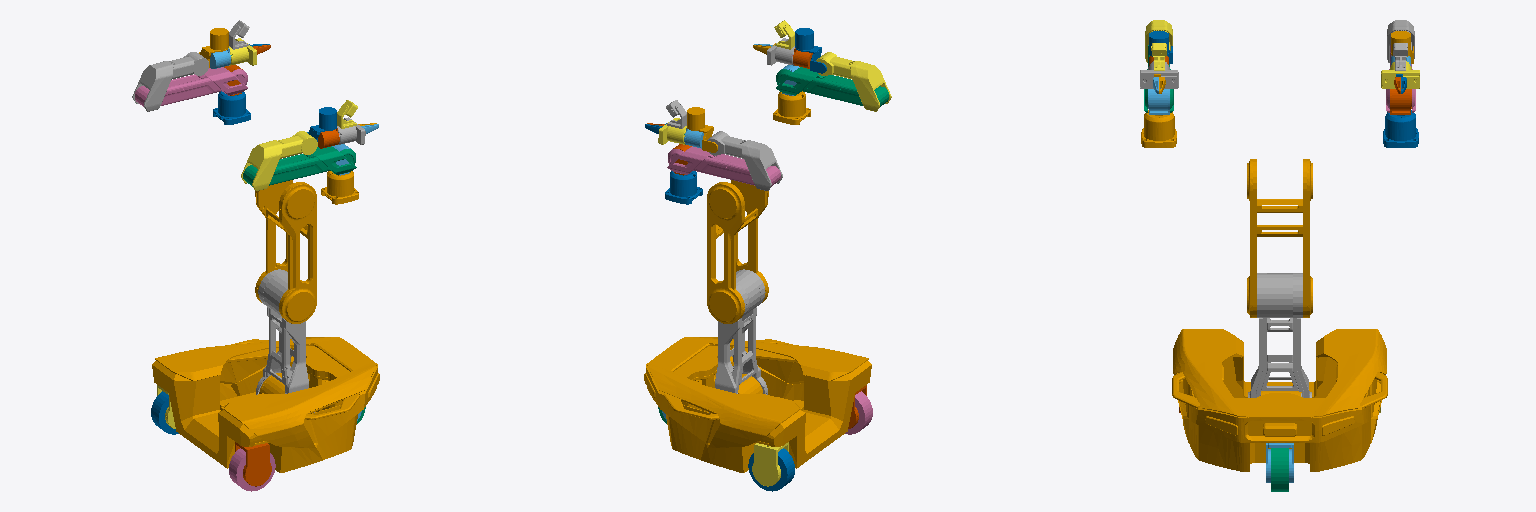
--- Facts derived from the render (not from the file) ---
The picture shows the robot from 3 angles, left to right: view 1: azimuth 30°, elevation 25°; view 2: azimuth 150°, elevation 25°; view 3: azimuth 270°, elevation 25°; orthographic projection.
Model A1Lite with 36 links and 35 joints (15 revolute, 4 prismatic, 16 fixed), rooted at base_link, posed all joints at 0.
Links seen in each view (by area): view 1: base_link, torso_link2, torso_link1, left_link2, right_link2, right_link3, left_link3, steer_motor_link3, left_base_link, right_base_link, wheel_motor_link3, wheel_motor_link2 (+2 smaller); view 2: base_link, torso_link2, torso_link1, right_link2, left_link2, left_link3, right_link3, steer_motor_link2, right_base_link, left_base_link, right_link4, wheel_motor_link2 (+2 smaller); view 3: base_link, torso_link1, torso_link2, left_base_link, right_base_link, wheel_motor_link1, left_gripper_base, right_gripper_base, left_link1, right_link1.
Link boxes in pixels (box(x1,y1,x2,y2)): base_link: box(152, 337, 379, 472); torso_link2: box(255, 180, 316, 323); torso_link1: box(256, 269, 314, 412); left_link2: box(135, 67, 247, 106); right_link2: box(243, 146, 356, 186); right_link3: box(241, 131, 317, 190); left_link3: box(132, 52, 208, 111); steer_motor_link3: box(235, 442, 271, 486); left_base_link: box(213, 91, 250, 124); right_base_link: box(321, 171, 358, 204); wheel_motor_link3: box(229, 448, 275, 491); wheel_motor_link2: box(151, 391, 178, 434); base_link: box(644, 337, 871, 472); torso_link2: box(707, 180, 768, 323); torso_link1: box(709, 269, 767, 412); right_link2: box(776, 67, 888, 106); left_link2: box(667, 146, 780, 186); left_link3: box(707, 131, 782, 190); right_link3: box(816, 52, 891, 111); steer_motor_link2: box(752, 442, 788, 486); right_base_link: box(773, 91, 810, 124); left_base_link: box(665, 171, 702, 204); right_link4: box(795, 28, 826, 73); wheel_motor_link2: box(748, 448, 794, 491); base_link: box(1172, 329, 1387, 471); torso_link1: box(1248, 273, 1311, 397); torso_link2: box(1247, 159, 1312, 317); left_base_link: box(1383, 110, 1418, 147); right_base_link: box(1141, 110, 1176, 147); wheel_motor_link1: box(1271, 448, 1288, 491); left_gripper_base: box(1381, 61, 1419, 88); right_gripper_base: box(1140, 61, 1178, 88); left_link1: box(1390, 89, 1411, 114); right_link1: box(1148, 89, 1169, 114).
Size in the robot's own frame: 0.6042 by 0.7783 by 1.29 metres.
31 mesh visuals loaded from 16 distinct referenced files (15 OBJ); not drawn: 1 (reference not matched to a file when rendering).

URDF robot description (A1Lite):
<?xml version="1.0" ?>
<!-- =================================================================================== -->
<!-- |    This document was autogenerated by xacro from robot.xacro                    | -->
<!-- |    EDITING THIS FILE BY HAND IS NOT RECOMMENDED                                 | -->
<!-- =================================================================================== -->
<!-- This URDF was automatically created by SolidWorks to URDF Exporter! Originally created by Stephen Brawner ([email redacted]) 
     Commit Version: 1.6.0-4-g7f85cfe  Build Version: 1.6.7995.38578
     For more information, please see http://wiki.ros.org/sw_urdf_exporter -->
<robot name="A1Lite">
  <link name="base_link">
    <inertial>
      <origin xyz="0.0718033657159837 -0.0016279349766449 0.128750850965126"/>
      <mass value="25.114"/>
      <inertia ixx="0.19099308690849" ixy="7.01153963312701E-05" ixz="-0.00785937977791519" iyy="0.152035922355254" iyz="-0.000494758898409346" izz="0.29121889848538"/>
    </inertial>
    <visual>
      <geometry>
        <mesh filename="package://galaxea_r1lite_description/meshes/visual/base.obj"/>
      </geometry>
    </visual>
    <collision>
      <geometry>
        <mesh filename="package://galaxea_r1lite_description/meshes/collision/base.stl"/>
      </geometry>
    </collision>
  </link>
  <link name="steer_motor_link1">
    <inertial>
      <origin xyz="-1.76196610579549E-07 -7.75116053202478E-05 -0.0852489956386505"/>
      <mass value="1.5"/>
      <inertia ixx="0.000338657650556839" ixy="6.14197589167664E-09" ixz="6.6056392682533E-09" iyy="0.000503900951850049" iyz="3.6051622873431E-08" izz="0.000211486748436409"/>
    </inertial>
    <visual>
      <geometry>
        <mesh filename="package://galaxea_r1lite_description/meshes/visual/steer_motor.obj"/>
      </geometry>
    </visual>
  </link>
  <joint name="steer_motor_joint1" type="fixed">
    <origin xyz="0.29183 -0.0014897 0.18165"/>
    <parent link="base_link"/>
    <child link="steer_motor_link1"/>
    <axis xyz="0 0 1"/>
    <limit effort="20" lower="-3.141592653589793" upper="3.141592653589793" velocity="20"/>
  </joint>
  <link name="wheel_motor_link1">
    <inertial>
      <origin xyz="0 -9.99250577455509E-13 -2.34534613952064E-15"/>
      <mass value="1.5"/>
      <inertia ixx="0.00104702497304016" ixy="2.02186210571336E-18" ixz="-8.67361737988254E-20" iyy="0.00181031135070458" iyz="3.54126040189266E-17" izz="0.00104702497304016"/>
    </inertial>
    <visual>
      <geometry>
        <mesh filename="package://galaxea_r1lite_description/meshes/visual/wheel.obj"/>
      </geometry>
    </visual>
    <collision>
      <geometry>
        <mesh filename="package://galaxea_r1lite_description/meshes/visual/wheel.obj"/>
      </geometry>
    </collision>
  </link>
  <joint name="wheel_motor_joint1" type="fixed">
    <origin xyz="0 0 -0.11165"/>
    <parent link="steer_motor_link1"/>
    <child link="wheel_motor_link1"/>
    <axis xyz="0 1 0"/>
  </joint>
  <link name="steer_motor_link2">
    <inertial>
      <origin xyz="1.76196610607304E-07 7.75116053202962E-05 -0.0852489956386505"/>
      <mass value="1.5"/>
      <inertia ixx="0.000338657650556839" ixy="6.1419758916829E-09" ixz="-6.6056392682485E-09" iyy="0.000503900951850049" iyz="-3.60516228734399E-08" izz="0.000211486748436408"/>
    </inertial>
    <visual>
      <geometry>
        <mesh filename="package://galaxea_r1lite_description/meshes/visual/steer_motor.obj"/>
      </geometry>
    </visual>
  </link>
  <joint name="steer_motor_joint2" type="fixed">
    <origin xyz="-0.16817 0.23851 0.18165"/>
    <parent link="base_link"/>
    <child link="steer_motor_link2"/>
    <axis xyz="0 0 1"/>
    <limit effort="20" lower="-3.141592653589793" upper="3.141592653589793" velocity="20"/>
  </joint>
  <link name="wheel_motor_link2">
    <inertial>
      <origin xyz="2.77555756156289E-17 -1.94289029309402E-16 -2.34621350125863E-15"/>
      <mass value="1.5"/>
      <inertia ixx="0.00104702497304016" ixy="2.01102008398851E-18" ixz="-8.67361737988254E-20" iyy="0.00181031135070458" iyz="3.54092952964764E-17" izz="0.00104702497304016"/>
    </inertial>
    <visual>
      <geometry>
        <mesh filename="package://galaxea_r1lite_description/meshes/visual/wheel.obj"/>
      </geometry>
    </visual>
    <collision>
      <geometry>
        <mesh filename="package://galaxea_r1lite_description/meshes/visual/wheel.obj"/>
      </geometry>
    </collision>
  </link>
  <joint name="wheel_motor_joint2" type="fixed">
    <origin xyz="0 0 -0.11165"/>
    <parent link="steer_motor_link2"/>
    <child link="wheel_motor_link2"/>
    <axis xyz="0 1 0"/>
  </joint>
  <link name="steer_motor_link3">
    <inertial>
      <origin xyz="1.76196610579549E-07 7.75116053202407E-05 -0.0852489956386505"/>
      <mass value="1.5"/>
      <inertia ixx="0.000338657650556839" ixy="6.14197589167356E-09" ixz="-6.60563926825079E-09" iyy="0.000503900951850049" iyz="-3.60516228734413E-08" izz="0.000211486748436408"/>
    </inertial>
    <visual>
      <geometry>
        <mesh filename="package://galaxea_r1lite_description/meshes/visual/steer_motor.obj"/>
      </geometry>
    </visual>
  </link>
  <joint name="steer_motor_joint3" type="fixed">
    <origin xyz="-0.16817 -0.24149 0.18165"/>
    <parent link="base_link"/>
    <child link="steer_motor_link3"/>
    <axis xyz="0 0 1"/>
    <limit effort="20" lower="-3.141592653589793" upper="3.141592653589793" velocity="20"/>
  </joint>
  <link name="wheel_motor_link3">
    <inertial>
      <origin xyz="0 -1.94289029309402E-16 -2.34274405430668E-15"/>
      <mass value="1.5"/>
      <inertia ixx="0.00104702497304016" ixy="2.00017806226365E-18" ixz="-8.67361737988255E-20" iyy="0.00181031135070458" iyz="3.53868224535946E-17" izz="0.00104702497304016"/>
    </inertial>
    <visual>
      <geometry>
        <mesh filename="package://galaxea_r1lite_description/meshes/visual/wheel.obj"/>
      </geometry>
    </visual>
    <collision>
      <geometry>
        <mesh filename="package://galaxea_r1lite_description/meshes/visual/wheel.obj"/>
      </geometry>
    </collision>
  </link>
  <joint name="wheel_motor_joint3" type="fixed">
    <origin xyz="0 0 -0.11165"/>
    <parent link="steer_motor_link3"/>
    <child link="wheel_motor_link3"/>
    <axis xyz="0 1 0"/>
  </joint>
  <link name="torso_link1">
    <inertial>
      <origin xyz="0.00321196798398059 0.0116566745256909 0.100697975240297"/>
      <mass value="4.807"/>
      <inertia ixx="0.00310511493924453" ixy="3.89455548949465E-06" ixz="-0.000112029811012738" iyy="0.00326868759782864" iyz="4.14882596510336E-05" izz="0.000354993987137864"/>
    </inertial>
    <visual>
      <geometry>
        <mesh filename="package://galaxea_r1lite_description/meshes/visual/torso1.obj"/>
      </geometry>
    </visual>
    <collision>
      <geometry>
        <mesh filename="package://galaxea_r1lite_description/meshes/collision/torso1.stl"/>
      </geometry>
    </collision>
  </link>
  <joint name="torso_joint1" type="revolute">
    <origin xyz="0.091831 0.00036033 0.14865"/>
    <parent link="base_link"/>
    <child link="torso_link1"/>
    <axis xyz="0 1 0"/>
    <limit effort="100" lower="-1.5707963267948966" upper="0.436333" velocity="2.5"/>
  </joint>
  <link name="torso_link2">
    <inertial>
      <origin xyz="0.00627300956924463 0.00536087570300695 0.184118796618929"/>
      <mass value="2.779"/>
      <inertia ixx="0.0309540761907757" ixy="-5.57959685881806E-07" ixz="0.000297952176364751" iyy="0.032517017639908" iyz="9.00096610164517E-07" izz="0.00185256464591929"/>
    </inertial>
    <visual>
      <geometry>
        <mesh filename="package://galaxea_r1lite_description/meshes/visual/torso2.obj"/>
      </geometry>
    </visual>
    <collision>
      <geometry>
        <mesh filename="package://galaxea_r1lite_description/meshes/collision/torso2.stl"/>
      </geometry>
    </collision>
  </link>
  <joint name="torso_joint2" type="revolute">
    <origin xyz="0 -0.00185 0.35"/>
    <parent link="torso_link1"/>
    <child link="torso_link2"/>
    <axis xyz="0 1 0"/>
    <limit effort="100" lower="-2.705262" upper="2.705262" velocity="2.5"/>
  </joint>
  <link name="torso_link3">
    <inertial>
      <origin xyz="-0.0416383086406449 0.000484599582373232 0.051111008977659"/>
      <mass value="5.833"/>
      <inertia ixx="0.00647219350010978" ixy="-4.51460802718021E-07" ixz="-1.28687447342324E-05" iyy="0.0054231706909373" iyz="-1.67510995383755E-07" izz="0.00845061936347779"/>
    </inertial>
    <visual>
      <geometry>
        <mesh filename="package://galaxea_r1lite_description/meshes/visual/torso3.obj"/>
      </geometry>
    </visual>
    <collision>
      <geometry>
        <mesh filename="package://galaxea_r1lite_description/meshes/collision/torso3.stl"/>
      </geometry>
    </collision>
  </link>
  <joint name="torso_joint3" type="revolute">
    <origin xyz="9.6485E-05 0 0.35"/>
    <parent link="torso_link2"/>
    <child link="torso_link3"/>
    <axis xyz="0 -1 0"/>
    <limit effort="100" lower="-1.5707963267948966" upper="1.5707963267948966" velocity="2.5"/>
  </joint>
  <link name="camera_head_left_link"/>
  <joint name="camera_head_left_joint" type="fixed">
    <origin rpy="-2.0943951023931953 4.1972E-05 -1.5707963267948966" xyz="0.054947 0.03149 0.63214"/>
    <parent link="torso_link3"/>
    <child link="camera_head_left_link"/>
  </joint>
  <link name="camera_head_right_link"/>
  <joint name="camera_head_right_joint" type="fixed">
    <origin rpy="-2.0943951023931953 4.1972E-05 -1.5707963267948966" xyz="0.054943 -0.03351 0.63214"/>
    <parent link="torso_link3"/>
    <child link="camera_head_right_link"/>
  </joint>
  <joint name="left_arm_base_joint" type="fixed">
    <origin xyz="0 0.335 0.12306"/>
    <parent link="torso_link3"/>
    <child link="left_base_link"/>
  </joint>
  <joint name="right_arm_base_joint" type="fixed">
    <origin xyz="0 -0.335 0.12306"/>
    <parent link="torso_link3"/>
    <child link="right_base_link"/>
  </joint>
  <!-- Base Link -->
  <link name="left_base_link">
    <inertial>
      <origin xyz="0.00303246421307354 -0.000695340443194854 0.0297996781638517"/>
      <mass value="0.786"/>
      <inertia ixx="0.000209631286775999" ixy="1.3987766340865E-06" ixz="5.68764766805313E-06" iyy="0.000199785107628426" iyz="-3.65982104907021E-06" izz="0.000237444184695321"/>
    </inertial>
    <visual>
      <geometry>
        <mesh filename="package://galaxea_a1_description/meshes/a1_xy/base_link.obj"/>
      </geometry>
    </visual>
    <collision>
      <geometry>
        <mesh filename="package://galaxea_a1_description/meshes/a1_xy/base_link.obj"/>
      </geometry>
    </collision>
  </link>
  <!-- Link 1 -->
  <link name="left_link1">
    <inertial>
      <origin xyz="4.1065175135883E-07 -0.00198628171247454 0.0468863413356551"/>
      <mass value="0.839"/>
      <inertia ixx="0.000224135392915726" ixy="-1.28206810172038E-09" ixz="7.50235402650185E-09" iyy="0.00026979982869931" iyz="7.49527197322758E-09" izz="0.000218724360467532"/>
    </inertial>
    <visual>
      <geometry>
        <mesh filename="package://galaxea_a1_description/meshes/a1_xy/link1.obj"/>
      </geometry>
    </visual>
    <collision>
      <geometry>
        <mesh filename="package://galaxea_a1_description/meshes/a1_xy/link1.obj"/>
      </geometry>
    </collision>
  </link>
  <!-- Joint 1: Base to Link1 -->
  <joint name="left_joint1" type="revolute">
    <origin xyz="0 0 0.08605"/>
    <parent link="left_base_link"/>
    <child link="left_link1"/>
    <axis xyz="0 0 1"/>
    <limit effort="27" lower="-2.879795" upper="2.879795" velocity="10.4720"/>
  </joint>
  <!-- Link 2 -->
  <link name="left_link2">
    <inertial>
      <origin xyz="-0.122673818397923 -0.0295401461831619 0.00364838977156251"/>
      <mass value="1.09"/>
      <inertia ixx="0.000388311522528777" ixy="-2.18086613093501E-05" ixz="8.77434895649448E-06" iyy="0.00274683151904258" iyz="1.19756607314247E-06" izz="0.00278055331308976"/>
    </inertial>
    <visual>
      <geometry>
        <mesh filename="package://galaxea_a1_description/meshes/a1_xy/link2.obj"/>
      </geometry>
    </visual>
    <collision>
      <geometry>
        <mesh filename="package://galaxea_a1_description/meshes/a1_xy/link2.obj"/>
      </geometry>
    </collision>
  </link>
  <!-- Joint 2: Link1 to Link2 -->
  <joint name="left_joint2" type="revolute">
    <origin xyz="0 0.03075 0.04925"/>
    <parent link="left_link1"/>
    <child link="left_link2"/>
    <axis xyz="0 1 0"/>
    <limit effort="50" lower="0" upper="3.141592653589793" velocity="12.5664"/>
  </joint>
  <link name="left_link3">
    <inertial>
      <origin xyz="0.0566624793223791 -0.0291316466078999 0.0568018844686509"/>
      <mass value="0.739"/>
      <inertia ixx="0.000257907545256439" ixy="1.02695451350475E-05" ixz="-0.000131693719602983" iyy="0.000671352233244435" iyz="-8.03382534299068E-06" izz="0.000550051611056369"/>
    </inertial>
    <visual>
      <geometry>
        <mesh filename="package://galaxea_a1_description/meshes/a1_xy/a1_x/link3.obj"/>
      </geometry>
    </visual>
    <collision>
      <geometry>
        <mesh filename="package://galaxea_a1_description/meshes/a1_xy/a1_x/link3.obj"/>
      </geometry>
    </collision>
  </link>
  <joint name="left_joint3" type="revolute">
    <origin xyz="-0.3 0.00025004 0"/>
    <parent link="left_link2"/>
    <child link="left_link3"/>
    <axis xyz="0 1 0"/>
    <limit effort="27" lower="-3.3161" upper="0" velocity="10.472"/>
  </joint>
  <link name="left_link4">
    <inertial>
      <origin xyz="0.0699840030193581 -0.0287504697364447 0.0541968318197228"/>
      <mass value="0.419"/>
      <inertia ixx="6.62006896114572E-05" ixy="-9.3635648969069E-09" ixz="-4.25876556256057E-09" iyy="6.79307239443371E-05" iyz="7.77726883989867E-07" izz="6.69265447808637E-05"/>
    </inertial>
    <visual>
      <geometry>
        <mesh filename="package://galaxea_a1_description/meshes/a1_xy/a1_x/link4.obj"/>
      </geometry>
    </visual>
    <collision>
      <geometry>
        <mesh filename="package://galaxea_a1_description/meshes/a1_xy/a1_x/link4.obj"/>
      </geometry>
    </collision>
  </link>
  <joint name="left_joint4" type="revolute">
    <origin xyz="0.1747 0.00049739 0.075485"/>
    <parent link="left_link3"/>
    <child link="left_link4"/>
    <axis xyz="0 1 0"/>
    <limit effort="14" lower="-3.141592653589793" upper="3.141592653589793" velocity="32.9867"/>
  </joint>
  <link name="left_link5">
    <inertial>
      <origin xyz="-0.000803198983898074 -2.29028914278118E-07 -0.0402656141956459"/>
      <mass value="0.054"/>
      <inertia ixx="5.80420988761095E-05" ixy="-1.94657864482709E-13" ixz="1.11613844426808E-14" iyy="5.76397557796697E-05" iyz="-3.56183851121823E-11" izz="5.68558379713068E-05"/>
    </inertial>
    <visual>
      <geometry>
        <mesh filename="package://galaxea_a1_description/meshes/a1_xy/a1_x/link5.obj"/>
      </geometry>
    </visual>
    <collision>
      <geometry>
        <mesh filename="package://galaxea_a1_description/meshes/a1_xy/a1_x/link5.obj"/>
      </geometry>
    </collision>
  </link>
  <joint name="left_joint5" type="revolute">
    <origin xyz="0.08 -0.031498 0.0405"/>
    <parent link="left_link4"/>
    <child link="left_link5"/>
    <axis xyz="0 0 1"/>
    <limit effort="14" lower="-3.141592653589793" upper="3.141592653589793" velocity="32.9867"/>
  </joint>
  <link name="left_link6">
    <inertial>
      <origin xyz="0.00709944426961403 -8.90673146347609E-10 -3.82632235882419E-05"/>
      <mass value="0.031"/>
      <inertia ixx="3.44527427683917E-06" ixy="-2.00656296989553E-13" ixz="-1.26136975189559E-09" iyy="1.82572780689222E-06" iyz="-3.95364679222355E-15" izz="1.81730990577526E-06"/>
    </inertial>
    <visual>
      <geometry>
        <mesh filename="package://galaxea_a1_description/meshes/a1_xy/link6.obj"/>
      </geometry>
    </visual>
    <collision>
      <geometry>
        <mesh filename="package://galaxea_a1_description/meshes/a1_xy/link6.obj"/>
      </geometry>
    </collision>
  </link>
  <joint name="left_joint6" type="revolute">
    <origin xyz="0.022503 0 -0.0405"/>
    <parent link="left_link5"/>
    <child link="left_link6"/>
    <axis xyz="1 0 0"/>
    <limit effort="14" lower="-2.8798" upper="2.8798" velocity="32.9867"/>
  </joint>
  <link name="left_gripper_base">
    <inertial>
      <origin xyz="-0.0311072323899603 1.17979991887118E-08 7.93394685505433E-08"/>
      <mass value="0.604"/>
      <inertia ixx="0.000175881544189539" ixy="-6.06026450851008E-11" ixz="5.30643405624365E-10" iyy="9.86379407701341E-05" iyz="-8.18686692495892E-08" izz="0.000165121280580029"/>
    </inertial>
    <visual>
      <geometry>
        <mesh filename="package://galaxea_a1_description/meshes/gripper/gripper_link.obj"/>
      </geometry>
    </visual>
    <collision>
      <geometry>
        <mesh filename="package://galaxea_a1_description/meshes/gripper/gripper_link.obj"/>
      </geometry>
    </collision>
  </link>
  <link name="left_finger1">
    <inertial>
      <origin xyz="-0.0195895895552112 -0.0151136845490034 0.00542254359093075"/>
      <mass value="0.027"/>
      <inertia ixx="2.40569358477209E-06" ixy="3.9898459609048E-07" ixz="5.12152762183641E-08" iyy="5.71079298307516E-06" iyz="6.19467902008363E-08" izz="6.48482183930358E-06"/>
    </inertial>
    <visual>
      <geometry>
        <mesh filename="package://galaxea_a1_description/meshes/gripper/finger.obj"/>
      </geometry>
    </visual>
    <collision>
      <geometry>
        <mesh filename="package://galaxea_a1_description/meshes/gripper/finger.obj"/>
      </geometry>
    </collision>
  </link>
  <joint name="left_gripper_joint" type="prismatic">
    <origin xyz="0.03689 0.013453 0.00012059"/>
    <parent link="left_gripper_base"/>
    <child link="left_finger1"/>
    <axis xyz="0 1 0"/>
    <limit effort="100" lower="0" upper="0.05" velocity="0.25"/>
  </joint>
  <link name="left_finger2">
    <inertial>
      <origin xyz="-0.0195895857999098 0.0151136893508115 -0.00542254357246619"/>
      <mass value="0.027"/>
      <inertia ixx="2.40569340151687E-06" ixy="-3.98983784827124E-07" ixz="-5.12152683073981E-08" iyy="5.71079321589929E-06" iyz="6.19467953006536E-08" izz="6.48482187274222E-06"/>
    </inertial>
    <visual>
      <geometry>
        <mesh filename="package://galaxea_a1_description/meshes/gripper/finger.obj" scale="1 -1 -1"/>
      </geometry>
    </visual>
    <collision>
      <geometry>
        <mesh filename="package://galaxea_a1_description/meshes/gripper/finger.obj" scale="1 -1 -1"/>
      </geometry>
    </collision>
  </link>
  <joint name="left_gripper_joint2" type="prismatic">
    <origin xyz="0.03689 -0.013453 -0.00012059"/>
    <parent link="left_gripper_base"/>
    <child link="left_finger2"/>
    <axis xyz="0 -1 0"/>
    <limit effort="100" lower="0" upper="0.05" velocity="0.25"/>
    <mimic joint="left_gripper_joint" multiplier="1" offset="0"/>
  </joint>
  <link name="left_gripper_center"/>
  <joint name="left_gripper_center_joint" type="fixed">
    <origin xyz="0.03689 0 -0.00012059"/>
    <parent link="left_gripper_base"/>
    <child link="left_gripper_center"/>
  </joint>
  <joint name="left_gripper_base_joint" type="fixed">
    <origin xyz="0.08165 0 0"/>
    <parent link="left_link6"/>
    <child link="left_gripper_base"/>
  </joint>
  <link name="left_D405_link">
    <inertial>
      <origin xyz="0.00904707172595565 0.0155186578135894 -0.00819594831599657"/>
      <mass value="0.1"/>
      <inertia ixx="2.7808294491585E-05" ixy="-4.06196123763752E-10" ixz="1.50543456146707E-08" iyy="2.1895142505718E-05" iyz="-3.73269688232892E-06" izz="2.07706210421564E-05"/>
    </inertial>
    <visual>
      <geometry>
        <mesh filename="package://galaxea_r1lite_description/meshes/visual/camera.obj"/>
      </geometry>
    </visual>
    <collision>
      <geometry>
        <mesh filename="package://galaxea_r1lite_description/meshes/collision/camera.stl"/>
      </geometry>
    </collision>
  </link>
  <joint name="left_D405_joint" type="fixed">
    <origin rpy="-2.268 0 -1.5707963267948966" xyz="-0.019206 0.009 0.074757"/>
    <parent link="left_gripper_base"/>
    <child link="left_D405_link"/>
  </joint>
  <!-- Base Link -->
  <link name="right_base_link">
    <inertial>
      <origin xyz="0.00303246421307354 -0.000695340443194854 0.0297996781638517"/>
      <mass value="0.786"/>
      <inertia ixx="0.000209631286775999" ixy="1.3987766340865E-06" ixz="5.68764766805313E-06" iyy="0.000199785107628426" iyz="-3.65982104907021E-06" izz="0.000237444184695321"/>
    </inertial>
    <visual>
      <geometry>
        <mesh filename="package://galaxea_a1_description/meshes/a1_xy/base_link.obj"/>
      </geometry>
    </visual>
    <collision>
      <geometry>
        <mesh filename="package://galaxea_a1_description/meshes/a1_xy/base_link.obj"/>
      </geometry>
    </collision>
  </link>
  <!-- Link 1 -->
  <link name="right_link1">
    <inertial>
      <origin xyz="4.1065175135883E-07 -0.00198628171247454 0.0468863413356551"/>
      <mass value="0.839"/>
      <inertia ixx="0.000224135392915726" ixy="-1.28206810172038E-09" ixz="7.50235402650185E-09" iyy="0.00026979982869931" iyz="7.49527197322758E-09" izz="0.000218724360467532"/>
    </inertial>
    <visual>
      <geometry>
        <mesh filename="package://galaxea_a1_description/meshes/a1_xy/link1.obj"/>
      </geometry>
    </visual>
    <collision>
      <geometry>
        <mesh filename="package://galaxea_a1_description/meshes/a1_xy/link1.obj"/>
      </geometry>
    </collision>
  </link>
  <!-- Joint 1: Base to Link1 -->
  <joint name="right_joint1" type="revolute">
    <origin xyz="0 0 0.08605"/>
    <parent link="right_base_link"/>
    <child link="right_link1"/>
    <axis xyz="0 0 1"/>
    <limit effort="27" lower="-2.879795" upper="2.879795" velocity="10.4720"/>
  </joint>
  <!-- Link 2 -->
  <link name="right_link2">
    <inertial>
      <origin xyz="-0.122673818397923 -0.0295401461831619 0.00364838977156251"/>
      <mass value="1.09"/>
      <inertia ixx="0.000388311522528777" ixy="-2.18086613093501E-05" ixz="8.77434895649448E-06" iyy="0.00274683151904258" iyz="1.19756607314247E-06" izz="0.00278055331308976"/>
    </inertial>
    <visual>
      <geometry>
        <mesh filename="package://galaxea_a1_description/meshes/a1_xy/link2.obj"/>
      </geometry>
    </visual>
    <collision>
      <geometry>
        <mesh filename="package://galaxea_a1_description/meshes/a1_xy/link2.obj"/>
      </geometry>
    </collision>
  </link>
  <!-- Joint 2: Link1 to Link2 -->
  <joint name="right_joint2" type="revolute">
    <origin xyz="0 0.03075 0.04925"/>
    <parent link="right_link1"/>
    <child link="right_link2"/>
    <axis xyz="0 1 0"/>
    <limit effort="50" lower="0" upper="3.141592653589793" velocity="12.5664"/>
  </joint>
  <link name="right_link3">
    <inertial>
      <origin xyz="0.0566624793223791 -0.0291316466078999 0.0568018844686509"/>
      <mass value="0.739"/>
      <inertia ixx="0.000257907545256439" ixy="1.02695451350475E-05" ixz="-0.000131693719602983" iyy="0.000671352233244435" iyz="-8.03382534299068E-06" izz="0.000550051611056369"/>
    </inertial>
    <visual>
      <geometry>
        <mesh filename="package://galaxea_a1_description/meshes/a1_xy/a1_x/link3.obj"/>
      </geometry>
    </visual>
    <collision>
      <geometry>
        <mesh filename="package://galaxea_a1_description/meshes/a1_xy/a1_x/link3.obj"/>
      </geometry>
    </collision>
  </link>
  <joint name="right_joint3" type="revolute">
    <origin xyz="-0.3 0.00025004 0"/>
    <parent link="right_link2"/>
    <child link="right_link3"/>
    <axis xyz="0 1 0"/>
    <limit effort="27" lower="-3.3161" upper="0" velocity="10.472"/>
  </joint>
  <link name="right_link4">
    <inertial>
      <origin xyz="0.0699840030193581 -0.0287504697364447 0.0541968318197228"/>
      <mass value="0.419"/>
      <inertia ixx="6.62006896114572E-05" ixy="-9.3635648969069E-09" ixz="-4.25876556256057E-09" iyy="6.79307239443371E-05" iyz="7.77726883989867E-07" izz="6.69265447808637E-05"/>
    </inertial>
    <visual>
      <geometry>
        <mesh filename="package://galaxea_a1_description/meshes/a1_xy/a1_x/link4.obj"/>
      </geometry>
    </visual>
    <collision>
      <geometry>
        <mesh filename="package://galaxea_a1_description/meshes/a1_xy/a1_x/link4.obj"/>
      </geometry>
    </collision>
  </link>
  <joint name="right_joint4" type="revolute">
    <origin xyz="0.1747 0.00049739 0.075485"/>
    <parent link="right_link3"/>
    <child link="right_link4"/>
    <axis xyz="0 1 0"/>
    <limit effort="14" lower="-3.141592653589793" upper="3.141592653589793" velocity="32.9867"/>
  </joint>
  <link name="right_link5">
    <inertial>
      <origin xyz="-0.000803198983898074 -2.29028914278118E-07 -0.0402656141956459"/>
      <mass value="0.054"/>
      <inertia ixx="5.80420988761095E-05" ixy="-1.94657864482709E-13" ixz="1.11613844426808E-14" iyy="5.76397557796697E-05" iyz="-3.56183851121823E-11" izz="5.68558379713068E-05"/>
    </inertial>
    <visual>
      <geometry>
        <mesh filename="package://galaxea_a1_description/meshes/a1_xy/a1_x/link5.obj"/>
      </geometry>
    </visual>
    <collision>
      <geometry>
        <mesh filename="package://galaxea_a1_description/meshes/a1_xy/a1_x/link5.obj"/>
      </geometry>
    </collision>
  </link>
  <joint name="right_joint5" type="revolute">
    <origin xyz="0.08 -0.031498 0.0405"/>
    <parent link="right_link4"/>
    <child link="right_link5"/>
    <axis xyz="0 0 1"/>
    <limit effort="14" lower="-3.141592653589793" upper="3.141592653589793" velocity="32.9867"/>
  </joint>
  <link name="right_link6">
    <inertial>
      <origin xyz="0.00709944426961403 -8.90673146347609E-10 -3.82632235882419E-05"/>
      <mass value="0.031"/>
      <inertia ixx="3.44527427683917E-06" ixy="-2.00656296989553E-13" ixz="-1.26136975189559E-09" iyy="1.82572780689222E-06" iyz="-3.95364679222355E-15" izz="1.81730990577526E-06"/>
    </inertial>
    <visual>
      <geometry>
        <mesh filename="package://galaxea_a1_description/meshes/a1_xy/link6.obj"/>
      </geometry>
    </visual>
    <collision>
      <geometry>
        <mesh filename="package://galaxea_a1_description/meshes/a1_xy/link6.obj"/>
      </geometry>
    </collision>
  </link>
  <joint name="right_joint6" type="revolute">
    <origin xyz="0.022503 0 -0.0405"/>
    <parent link="right_link5"/>
    <child link="right_link6"/>
    <axis xyz="1 0 0"/>
    <limit effort="14" lower="-2.8798" upper="2.8798" velocity="32.9867"/>
  </joint>
  <link name="right_gripper_base">
    <inertial>
      <origin xyz="-0.0311072323899603 1.17979991887118E-08 7.93394685505433E-08"/>
      <mass value="0.604"/>
      <inertia ixx="0.000175881544189539" ixy="-6.06026450851008E-11" ixz="5.30643405624365E-10" iyy="9.86379407701341E-05" iyz="-8.18686692495892E-08" izz="0.000165121280580029"/>
    </inertial>
    <visual>
      <geometry>
        <mesh filename="package://galaxea_a1_description/meshes/gripper/gripper_link.obj"/>
      </geometry>
    </visual>
    <collision>
      <geometry>
        <mesh filename="package://galaxea_a1_description/meshes/gripper/gripper_link.obj"/>
      </geometry>
    </collision>
  </link>
  <link name="right_finger1">
    <inertial>
      <origin xyz="-0.0195895895552112 -0.0151136845490034 0.00542254359093075"/>
      <mass value="0.027"/>
      <inertia ixx="2.40569358477209E-06" ixy="3.9898459609048E-07" ixz="5.12152762183641E-08" iyy="5.71079298307516E-06" iyz="6.19467902008363E-08" izz="6.48482183930358E-06"/>
    </inertial>
    <visual>
      <geometry>
        <mesh filename="package://galaxea_a1_description/meshes/gripper/finger.obj"/>
      </geometry>
    </visual>
    <collision>
      <geometry>
        <mesh filename="package://galaxea_a1_description/meshes/gripper/finger.obj"/>
      </geometry>
    </collision>
  </link>
  <joint name="right_gripper_joint" type="prismatic">
    <origin xyz="0.03689 0.013453 0.00012059"/>
    <parent link="right_gripper_base"/>
    <child link="right_finger1"/>
    <axis xyz="0 1 0"/>
    <limit effort="100" lower="0" upper="0.05" velocity="0.25"/>
  </joint>
  <link name="right_finger2">
    <inertial>
      <origin xyz="-0.0195895857999098 0.0151136893508115 -0.00542254357246619"/>
      <mass value="0.027"/>
      <inertia ixx="2.40569340151687E-06" ixy="-3.98983784827124E-07" ixz="-5.12152683073981E-08" iyy="5.71079321589929E-06" iyz="6.19467953006536E-08" izz="6.48482187274222E-06"/>
    </inertial>
    <visual>
      <geometry>
        <mesh filename="package://galaxea_a1_description/meshes/gripper/finger.obj" scale="1 -1 -1"/>
      </geometry>
    </visual>
    <collision>
      <geometry>
        <mesh filename="package://galaxea_a1_description/meshes/gripper/finger.obj" scale="1 -1 -1"/>
      </geometry>
    </collision>
  </link>
  <joint name="right_gripper_joint2" type="prismatic">
    <origin xyz="0.03689 -0.013453 -0.00012059"/>
    <parent link="right_gripper_base"/>
    <child link="right_finger2"/>
    <axis xyz="0 -1 0"/>
    <limit effort="100" lower="0" upper="0.05" velocity="0.25"/>
    <mimic joint="right_gripper_joint" multiplier="1" offset="0"/>
  </joint>
  <link name="right_gripper_center"/>
  <joint name="right_gripper_center_joint" type="fixed">
    <origin xyz="0.03689 0 -0.00012059"/>
    <parent link="right_gripper_base"/>
    <child link="right_gripper_center"/>
  </joint>
  <joint name="right_gripper_base_joint" type="fixed">
    <origin xyz="0.08165 0 0"/>
    <parent link="right_link6"/>
    <child link="right_gripper_base"/>
  </joint>
  <link name="right_D405_link">
    <inertial>
      <origin xyz="0.00904707172594749 0.0155186578138565 -0.00819594831521042"/>
      <mass value="0.1"/>
      <inertia ixx="2.78082944930657E-05" ixy="-4.06196131154851E-10" ixz="1.50543456329152E-08" iyy="2.18951425070333E-05" iyz="-3.73269688187078E-06" izz="2.07706210423581E-05"/>
    </inertial>
    <visual>
      <geometry>
        <mesh filename="package://galaxea_r1lite_description/meshes/visual/camera.obj"/>
      </geometry>
    </visual>
    <collision>
      <geometry>
        <mesh filename="package://galaxea_r1lite_description/meshes/collision/camera.stl"/>
      </geometry>
    </collision>
  </link>
  <joint name="right_D405_joint" type="fixed">
    <origin rpy="-2.268 0 -1.5707963267948966" xyz="-0.019206 0.009 0.074757"/>
    <parent link="right_gripper_base"/>
    <child link="right_D405_link"/>
  </joint>
</robot>
